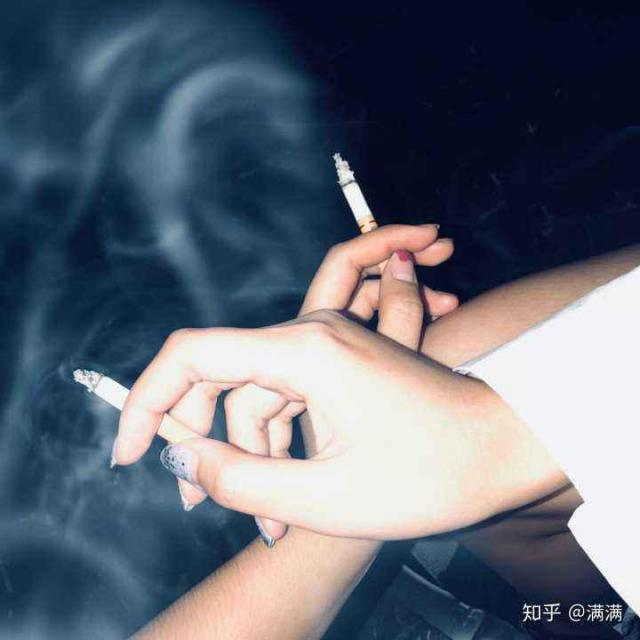cigarette: (61, 344, 194, 457), (324, 142, 396, 276)
